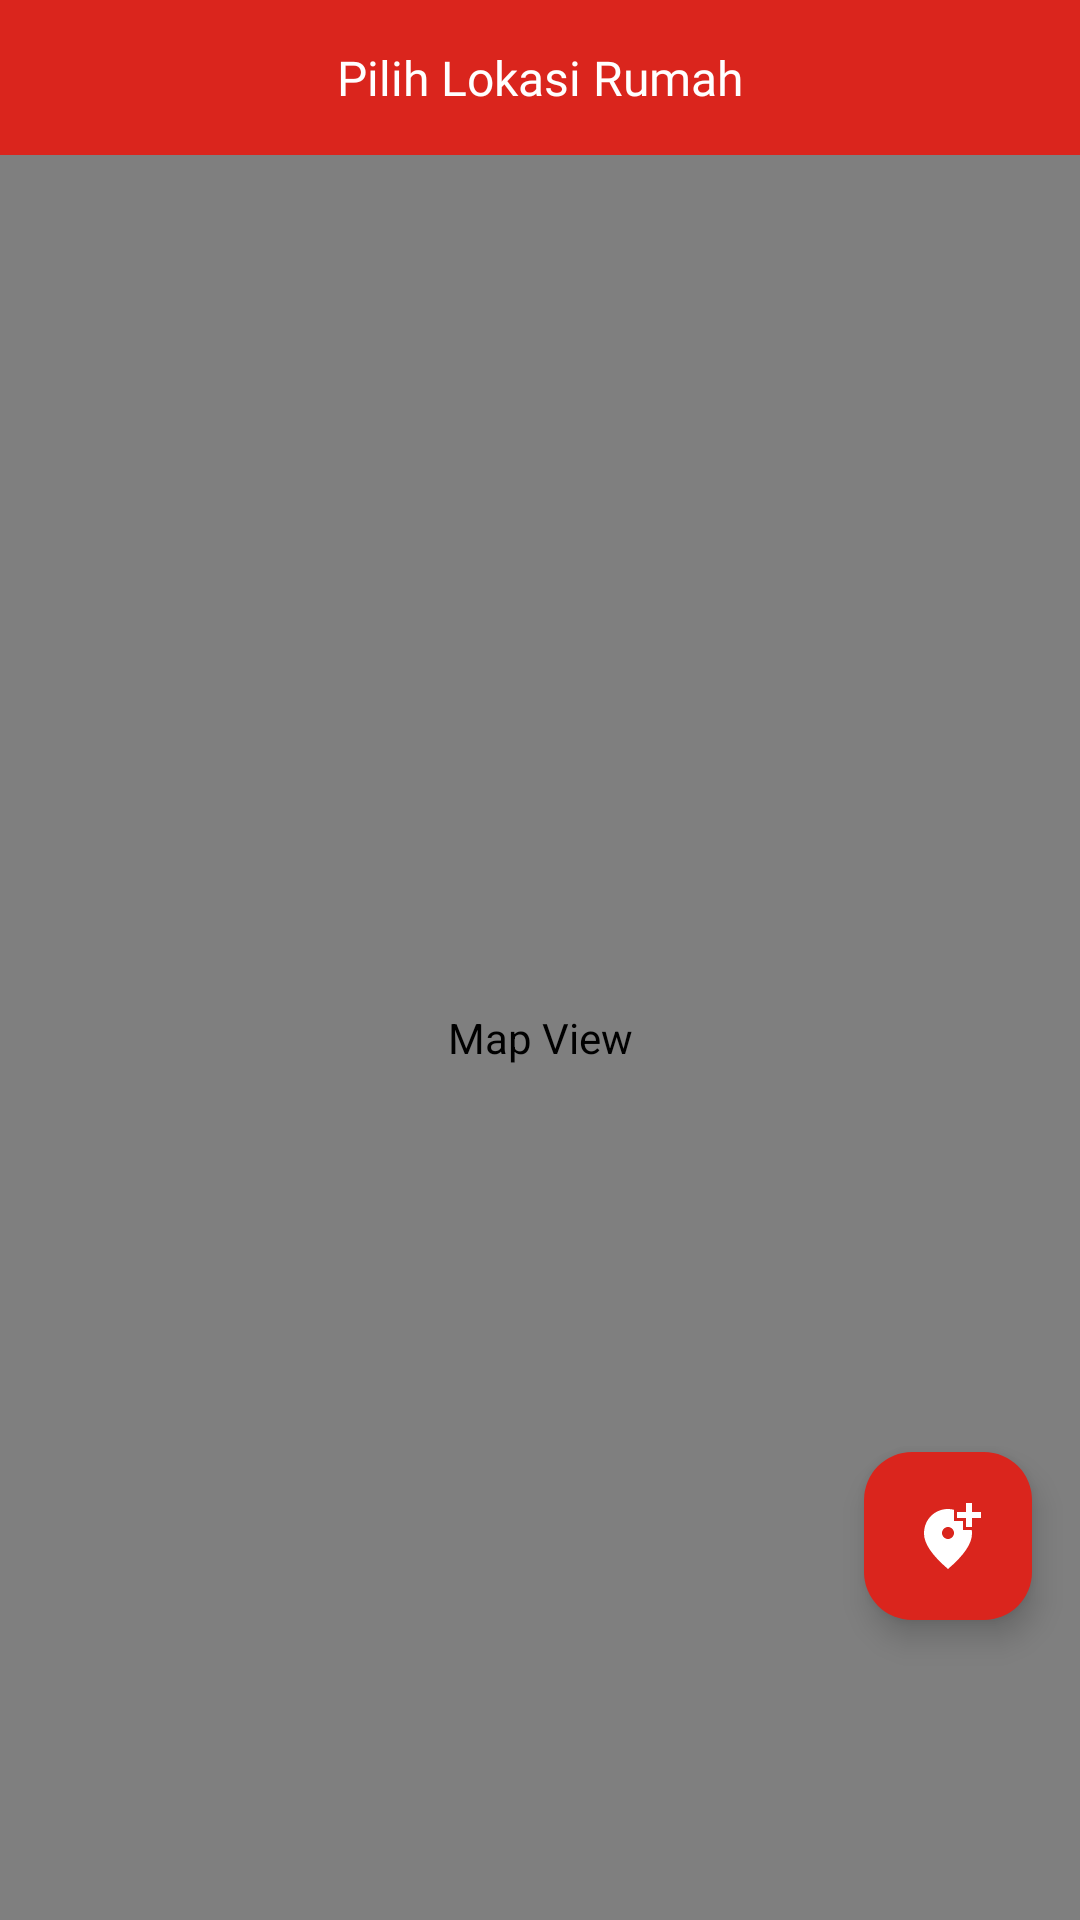

Point at icon controls on the screen. Image size 1080 × 1920, points as (x,y).
Button Add Location: (948,1536)
